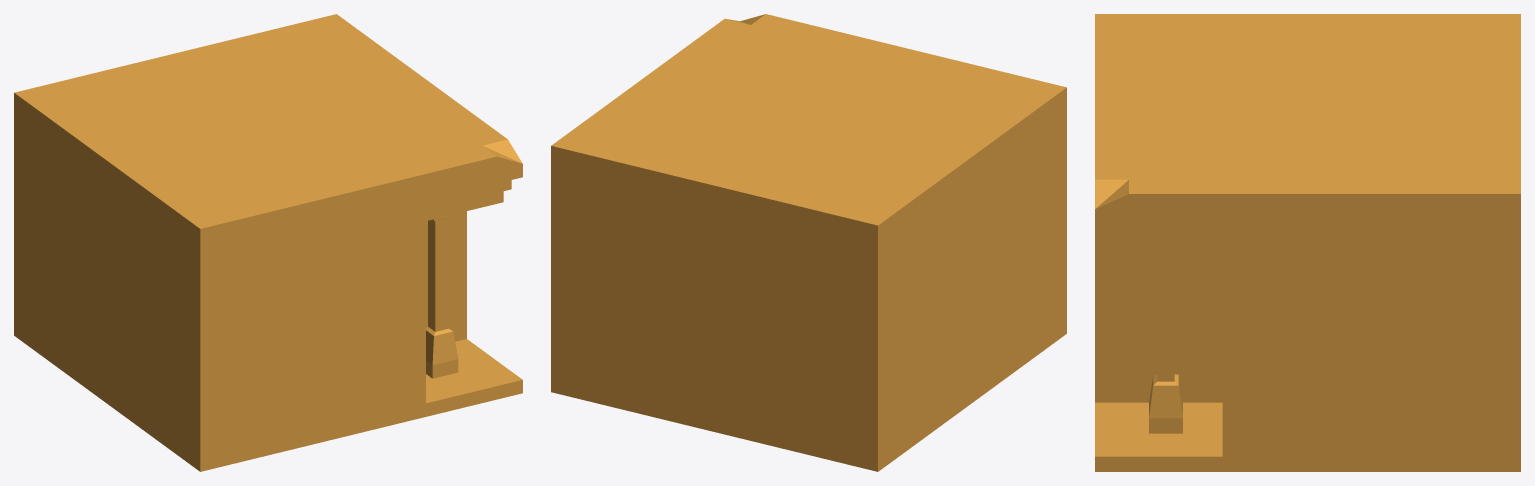
File: hindu-wall-interior-corner.fbx
3 views of the same model, side by side, from view 1: azimuth 30°, elevation 25°; view 2: azimuth 150°, elevation 25°; view 3: azimuth 270°, elevation 25° (orthographic). The views are drawn at different scales.
Parts seen in each view (by area): view 1: hindu-wall-interior-corner; view 2: hindu-wall-interior-corner; view 3: hindu-wall-interior-corner.
Boxes of the visible parts, <box> form: hindu-wall-interior-corner: <box>14,14,522,471</box>; hindu-wall-interior-corner: <box>551,14,1066,471</box>; hindu-wall-interior-corner: <box>1095,14,1520,471</box>.
Size of the model in its own units: 5 by 3.6 by 5.
